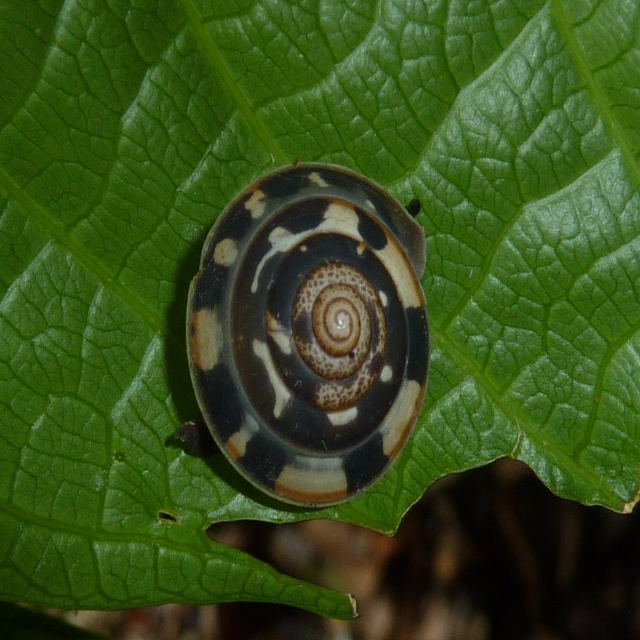Snail: (170, 157, 434, 511)
